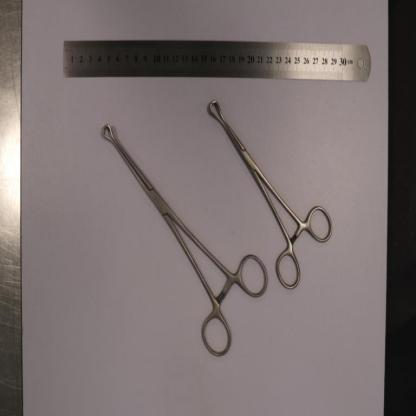8 Babcock Tissue Forceps: (102, 124, 266, 357)
Babcock Tissue Forceps: (210, 99, 332, 289)
